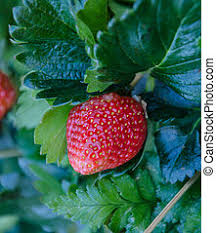ripe: (64, 85, 149, 181), (1, 61, 18, 126)
